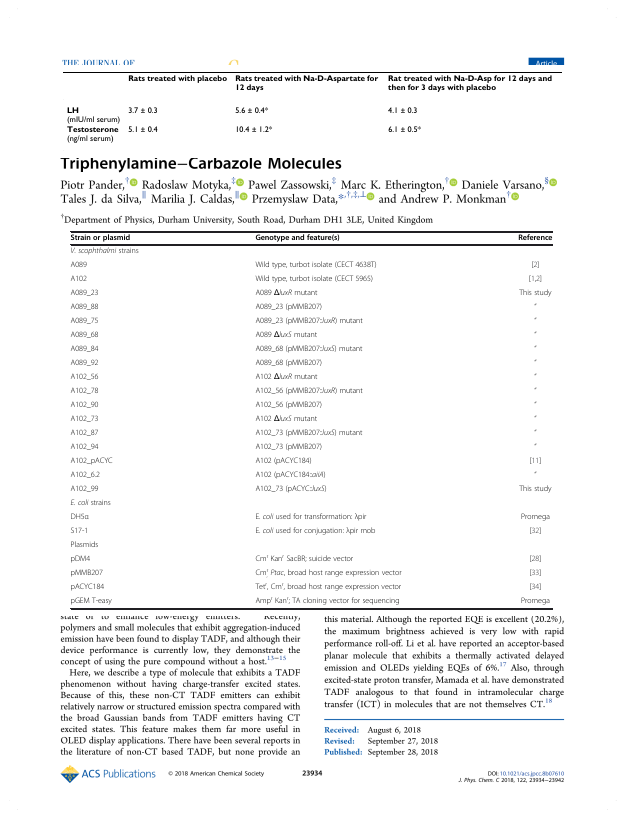borderless: (69, 230, 552, 608), (61, 70, 563, 152)
cell: (387, 75, 552, 93), (234, 75, 379, 93), (254, 567, 402, 579), (254, 581, 402, 593), (254, 595, 400, 607), (254, 261, 377, 271), (254, 527, 376, 537), (254, 275, 374, 285), (254, 553, 354, 565), (254, 513, 367, 523), (254, 317, 364, 327), (254, 387, 364, 397), (254, 345, 363, 355), (254, 429, 363, 439), (65, 106, 121, 125), (65, 126, 119, 144), (127, 75, 228, 84), (254, 234, 341, 243), (254, 485, 327, 495), (254, 471, 326, 481), (70, 247, 140, 257), (254, 303, 323, 313), (254, 359, 323, 369), (254, 401, 323, 411), (254, 443, 323, 453), (254, 289, 318, 299), (254, 331, 318, 341), (254, 373, 318, 383), (254, 415, 318, 425), (254, 457, 312, 467), (70, 234, 131, 243), (70, 457, 114, 467), (70, 597, 113, 607), (70, 499, 112, 509), (234, 125, 273, 135), (234, 106, 269, 116), (70, 583, 105, 593), (387, 125, 421, 135), (518, 289, 552, 299), (518, 485, 552, 495), (70, 569, 104, 579), (517, 234, 553, 243), (127, 106, 158, 116), (387, 106, 418, 116), (127, 125, 158, 135), (70, 471, 101, 481), (520, 513, 551, 523), (520, 597, 551, 607), (70, 289, 99, 299), (70, 303, 99, 313), (70, 317, 99, 327), (70, 331, 99, 341), (70, 345, 99, 355), (70, 359, 99, 369), (70, 373, 99, 383), (70, 387, 99, 397), (70, 401, 99, 411), (70, 415, 99, 425), (70, 429, 99, 439), (70, 443, 99, 453), (70, 485, 99, 495), (70, 541, 99, 551), (70, 555, 91, 565), (70, 513, 90, 523), (70, 527, 89, 537), (70, 261, 88, 271), (70, 275, 88, 285), (528, 275, 543, 285), (528, 457, 542, 467), (528, 527, 542, 537), (528, 555, 542, 565), (528, 569, 542, 579), (528, 583, 542, 593), (530, 261, 540, 271), (533, 303, 537, 311), (533, 317, 537, 325), (533, 331, 537, 339), (533, 345, 537, 353), (533, 359, 537, 367), (533, 373, 537, 381), (533, 387, 537, 395), (533, 401, 537, 409), (533, 415, 537, 423), (533, 429, 537, 437), (533, 443, 537, 451), (533, 471, 537, 479)
